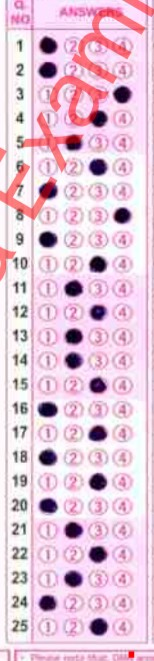filled circles: (89, 158, 107, 175), (40, 36, 57, 53), (90, 618, 107, 635), (89, 255, 106, 272), (89, 473, 106, 490), (89, 425, 107, 441), (64, 280, 82, 296), (65, 522, 82, 538), (89, 546, 106, 562), (39, 231, 56, 247), (89, 377, 106, 393), (39, 449, 56, 465), (90, 110, 107, 126), (65, 352, 82, 368), (114, 86, 131, 102), (39, 183, 57, 198), (39, 498, 57, 513), (64, 571, 82, 586), (38, 402, 57, 416), (114, 207, 130, 223), (90, 304, 106, 320), (39, 595, 56, 610), (65, 328, 82, 343), (39, 62, 56, 77), (66, 135, 81, 150)
